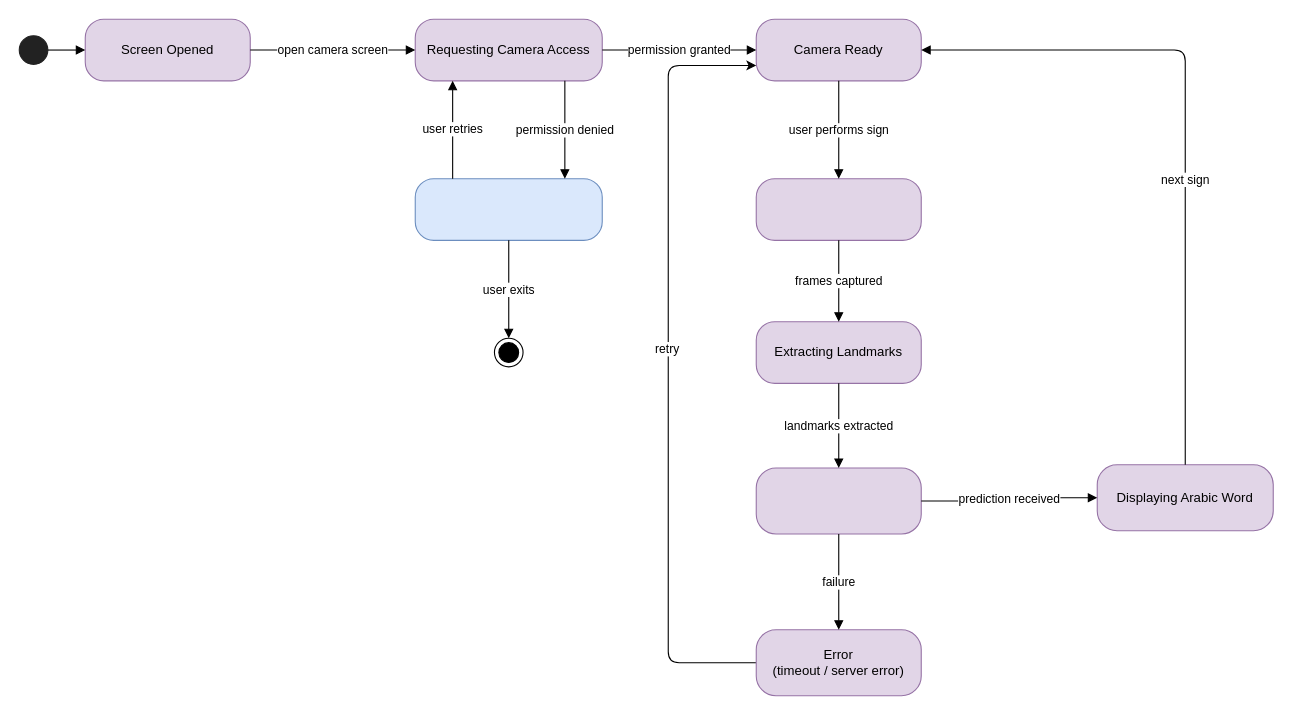
Some shapes in this 1293 by 715 pixel diagram are drawn without their labels. The box of each missing label's shape, as (x1, y1, x2, y2) in pixels:
Camera Access Denied: (414, 178, 602, 240)
Capturing Gesture: (755, 178, 921, 240)
Waiting for Prediction (REST request sent): (755, 467, 921, 534)
